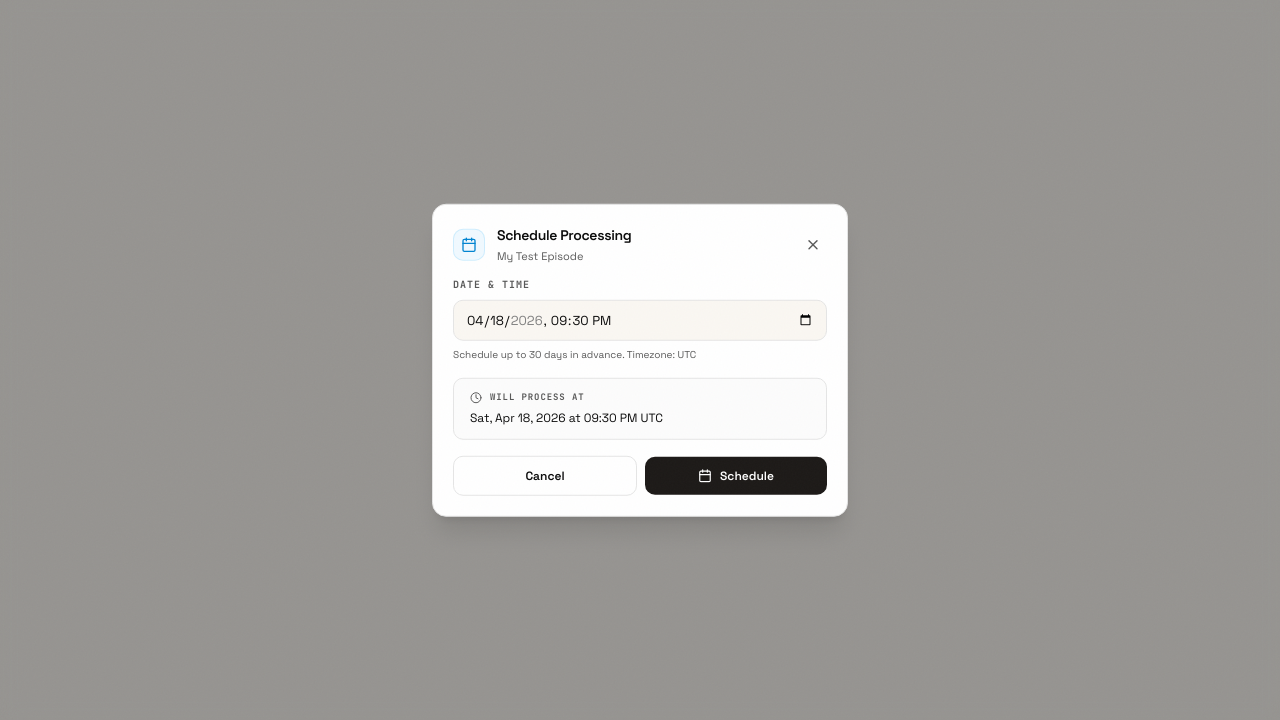
Test: ScheduleDialog › scheduling › shows success state after scheduling
Click the button "Schedule" at (736, 475), box [645,456,827,494]
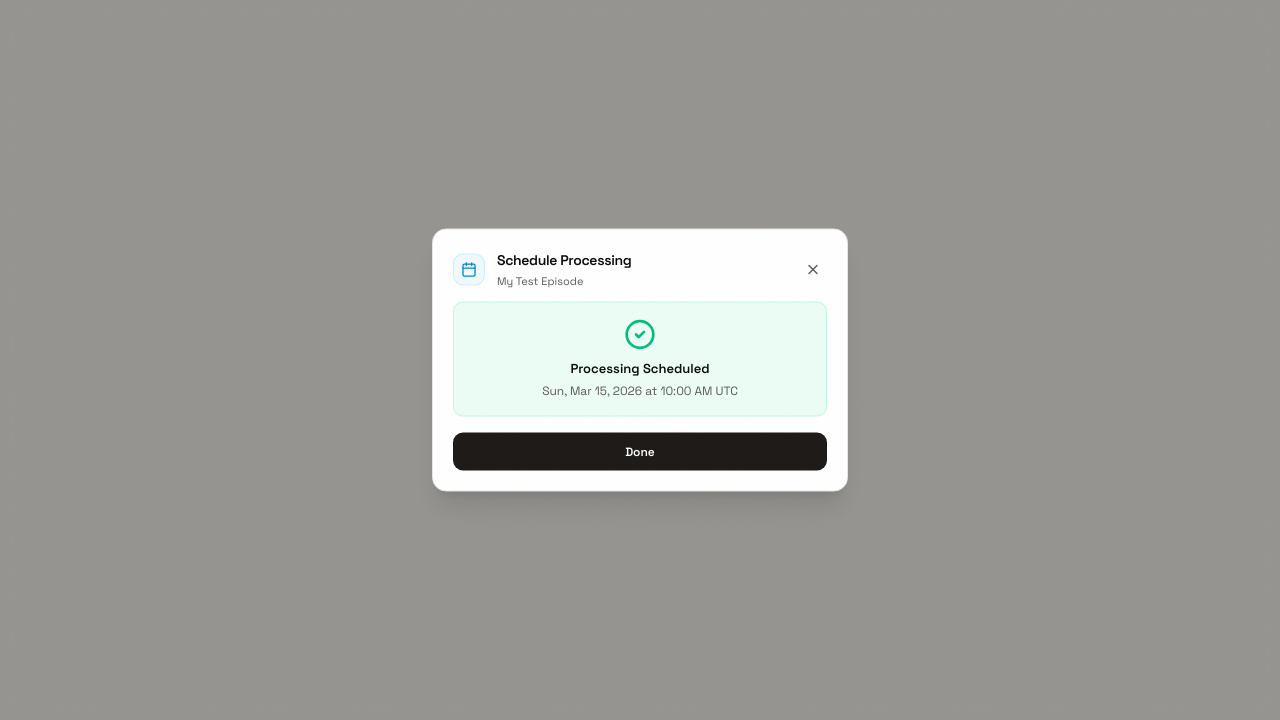
Now the text "Processing Scheduled" is shown, box [570,359,710,376]
Now the button "Done" is shown, box [453,432,827,470]
